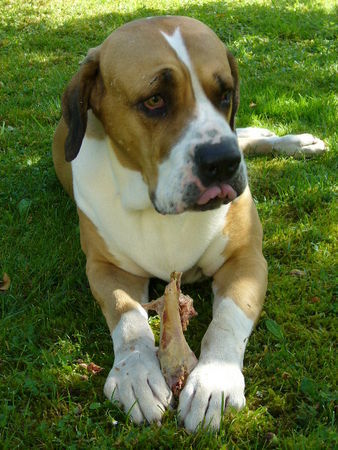fila_brasileiro: (50, 13, 267, 434)
